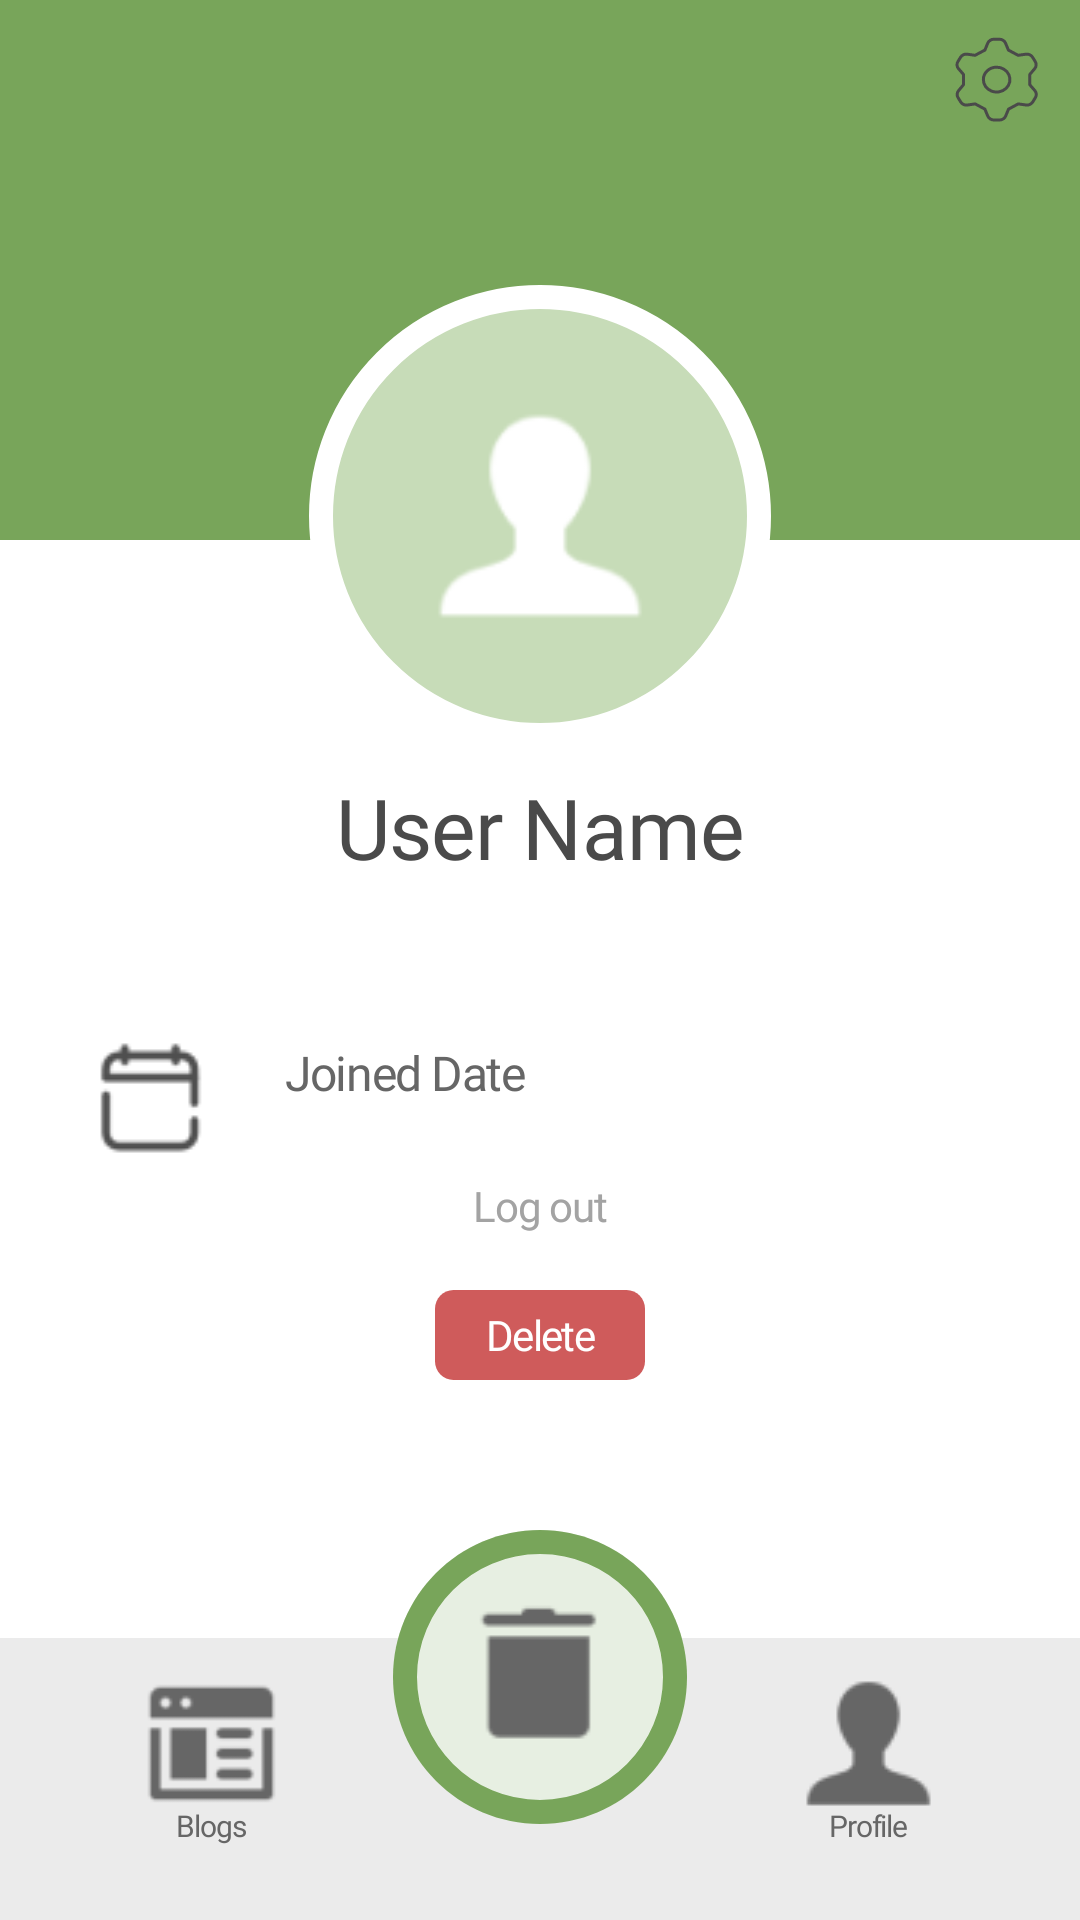

Named icons in this screenshot (1080*1920) and their centers, [x,y]:
customer: [868,1743]
trashcan: [538,1673]
user calendar: [150,1098]
web: [211,1743]
